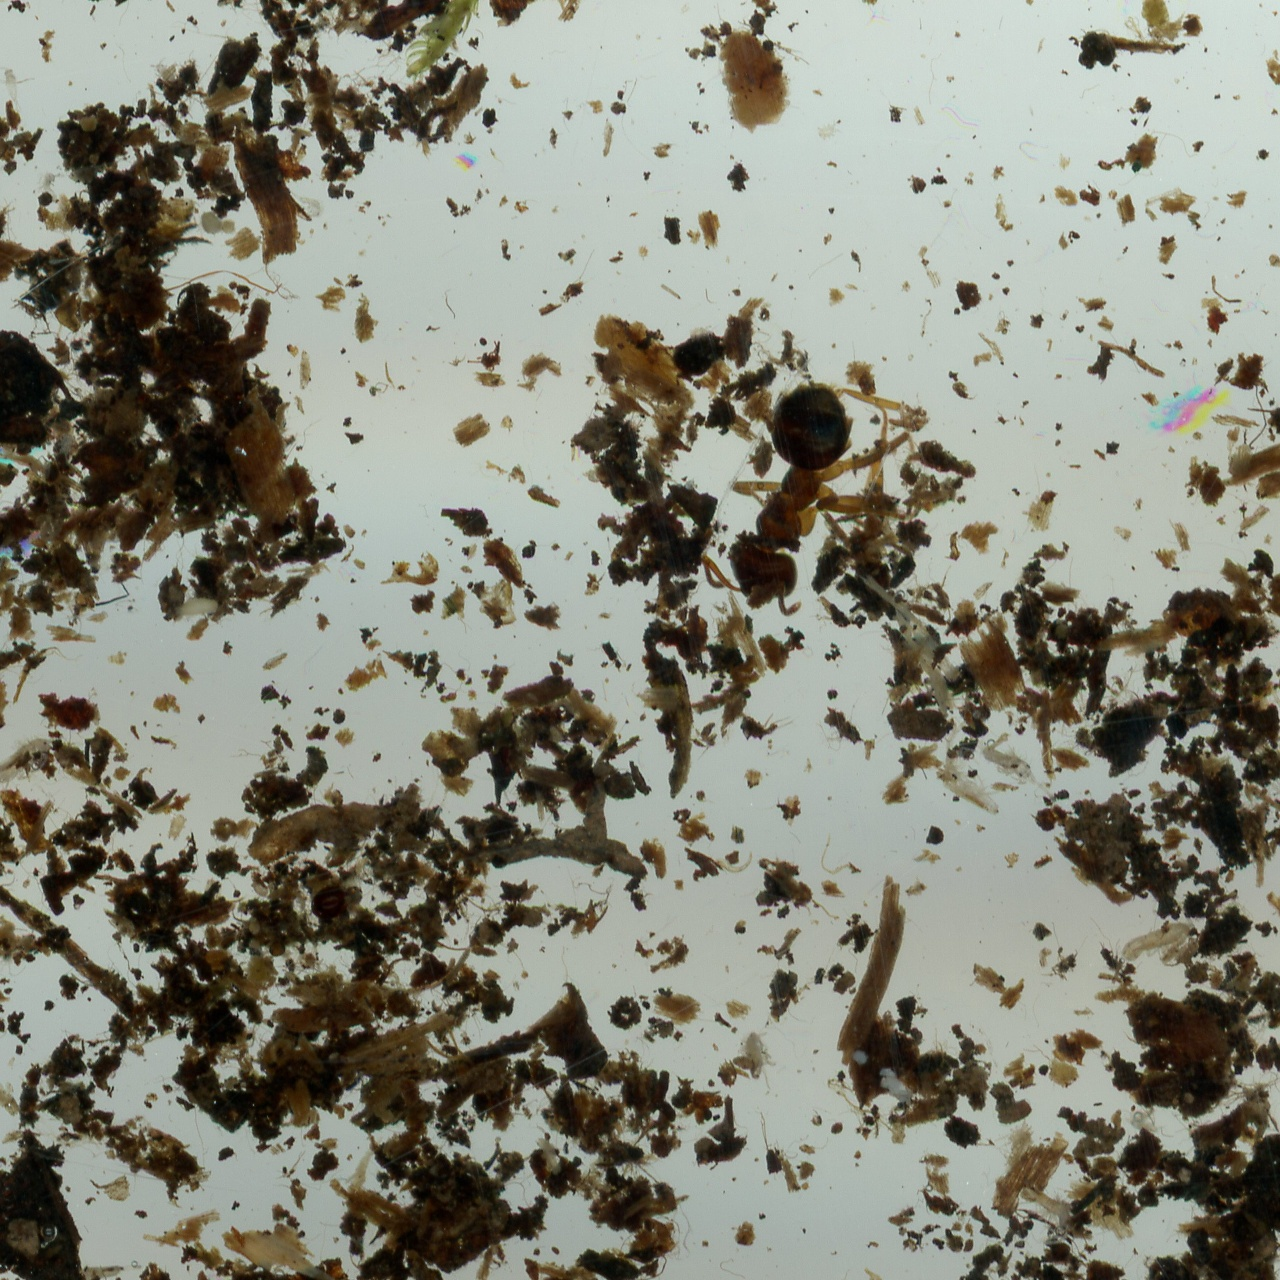arthropod: (692, 356, 927, 639), (919, 717, 1032, 824), (976, 735, 1055, 802), (1114, 913, 1199, 974), (0, 727, 59, 791), (1019, 1184, 1077, 1248), (0, 60, 39, 117), (1122, 1107, 1175, 1143), (292, 188, 328, 220), (33, 170, 64, 200), (148, 57, 178, 84), (53, 431, 77, 463), (195, 1267, 218, 1280)
